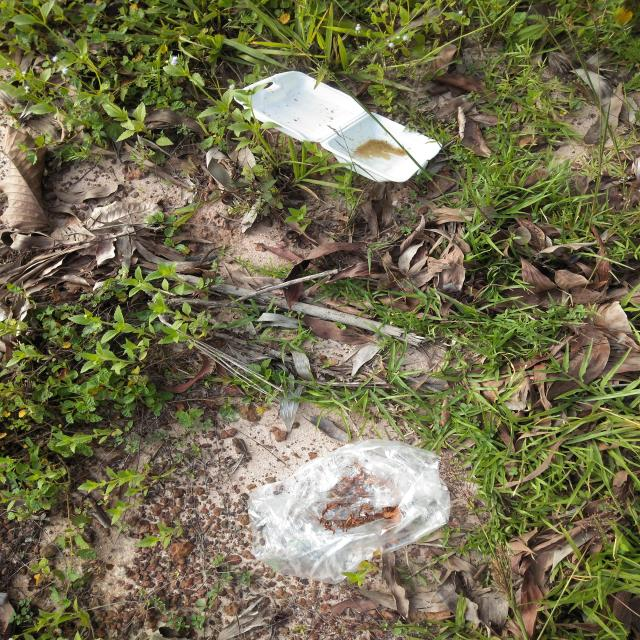litter: (249, 439, 452, 585), (235, 70, 445, 182)
